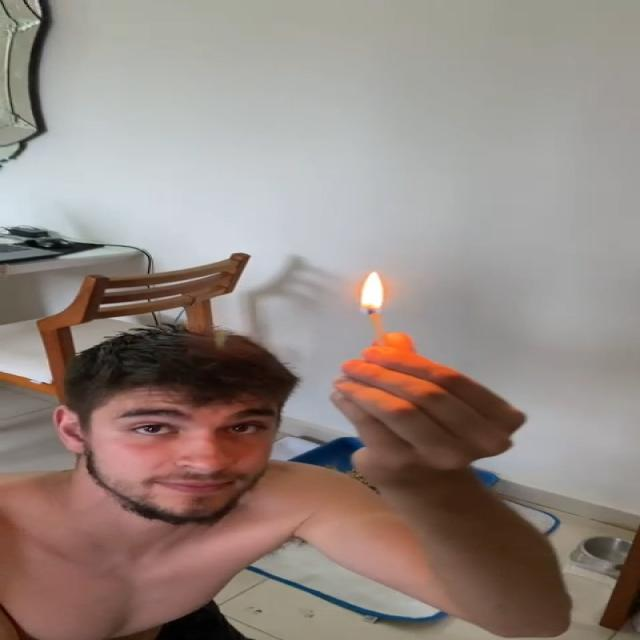fogo-ypXI: (359, 269, 385, 316)
